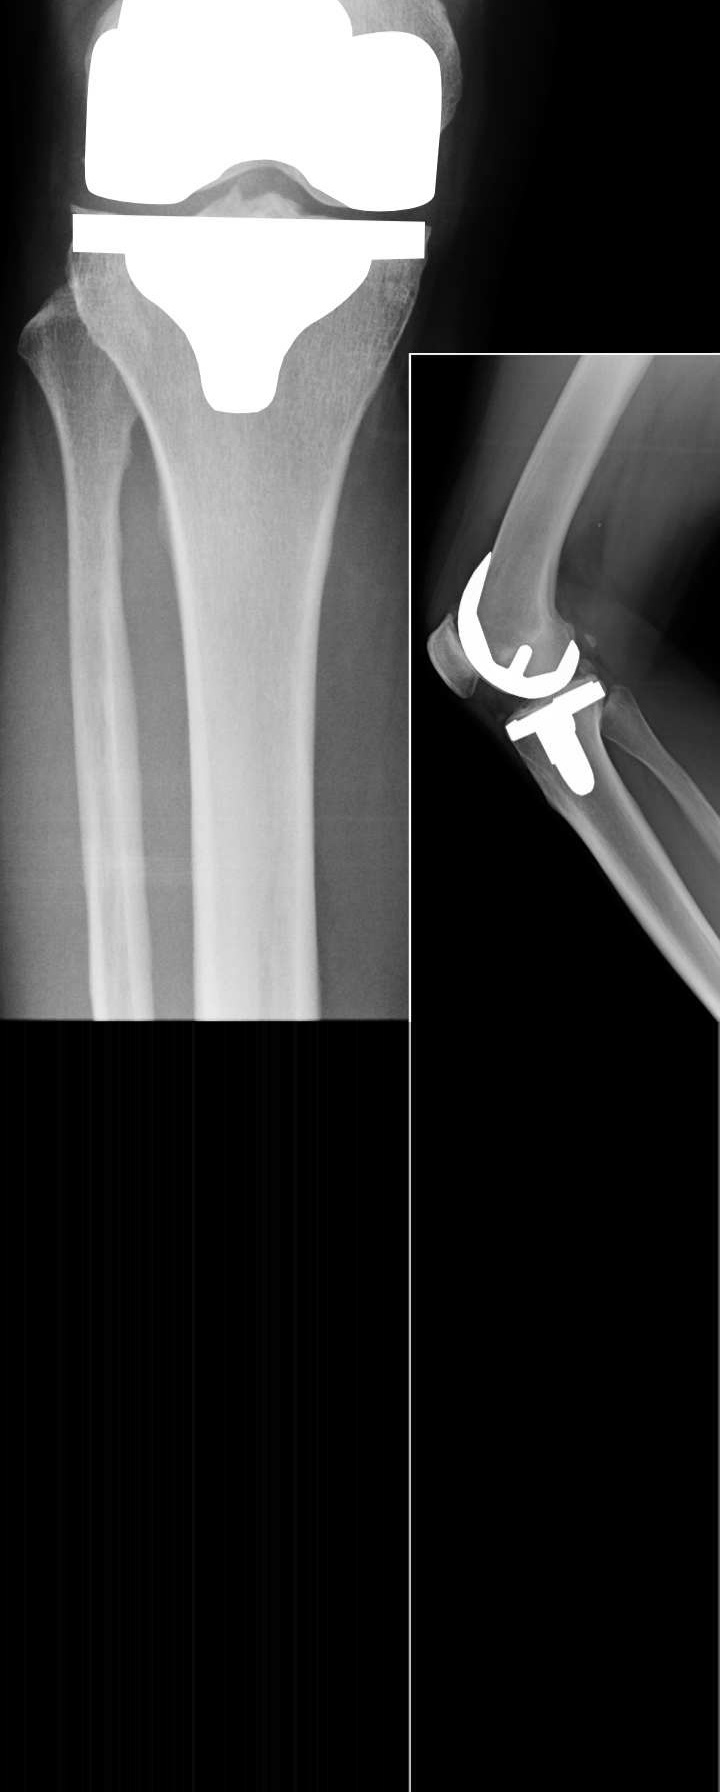Knee-Triathlon-Stryker: (38, 5, 455, 413), (461, 538, 611, 801)
